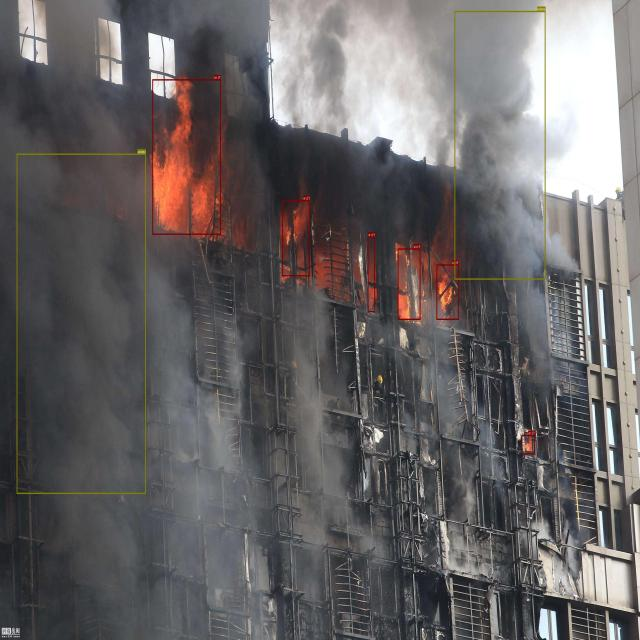fire: (153, 80, 221, 234), (283, 200, 310, 276), (398, 248, 420, 320), (437, 264, 459, 320), (368, 236, 375, 312), (522, 435, 535, 454)
smoke: (17, 153, 146, 494), (454, 11, 546, 280)
